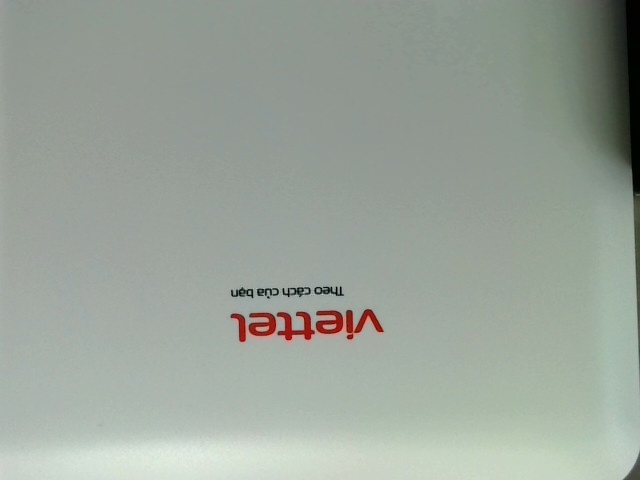AY_Viettel: (223, 281, 384, 343)
